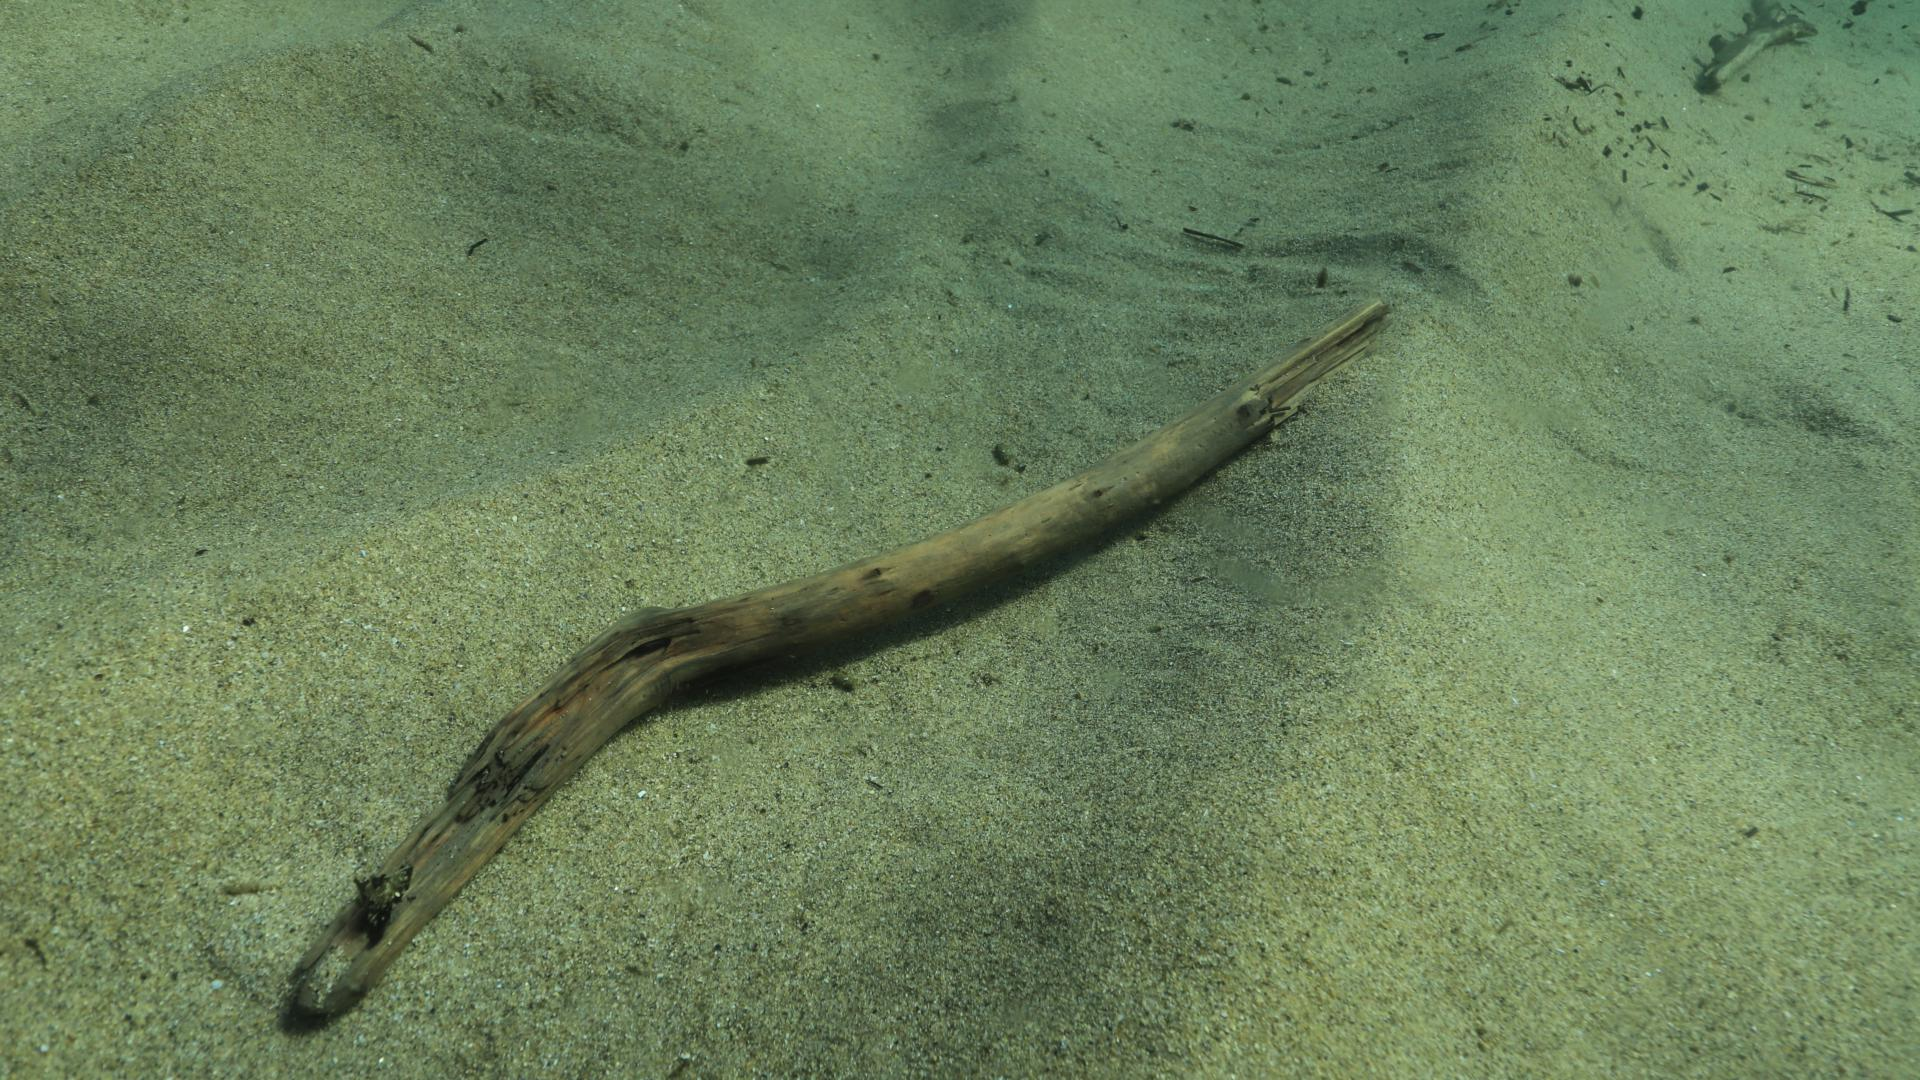wood: (278, 295, 1393, 1029)
